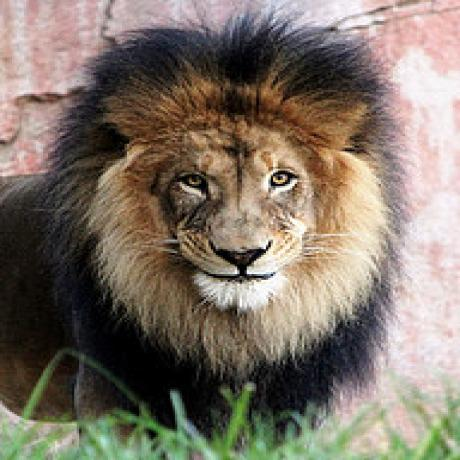Lion: (0, 13, 414, 450)
